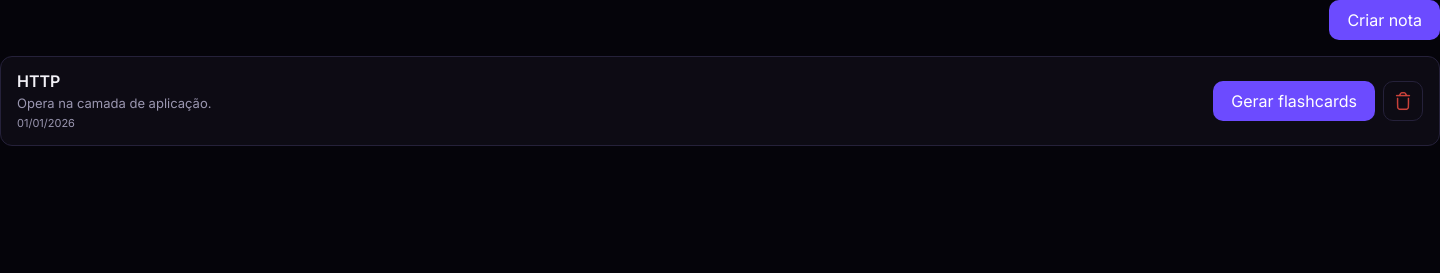
NotesTab › gera flashcards: mostra gerando, resultado, cota e link
Later steps or results of the test are not shown.
Expected: the link "HTTP" is shown, x1=17 y1=71 x2=60 y2=91
Click the button with aria-label "Gerar flashcards de HTTP".
click(1294, 101)  # box x1=1213 y1=81 x2=1375 y2=121
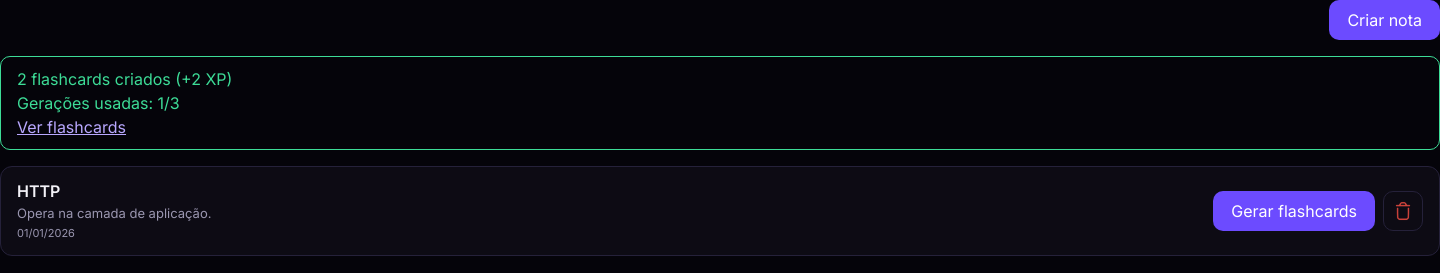
Result: the text "2 flashcards criados (+2 XP)" is shown at x1=17 y1=69 x2=232 y2=89
Result: the text "Gerações usadas: 1/3" is shown at x1=17 y1=93 x2=180 y2=113
